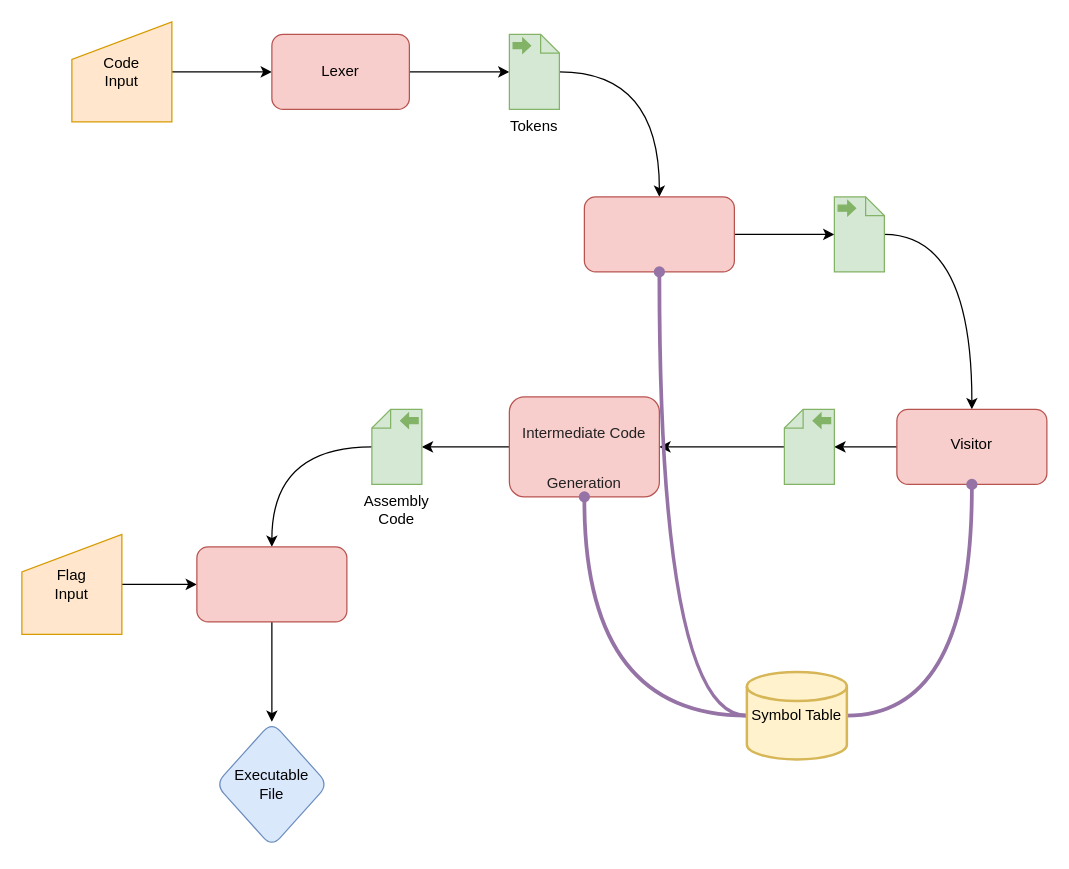
Image size: 1069x869. Some labels were removed from this diagram. The shapes that lost their labels are listed below. From the top down, each one's centre as x and y in pixels, then its label:
(x=658, y=234): Parser
(x=858, y=234): Parse Tree
(x=808, y=446): AST - Syntax Tree
(x=271, y=584): Assembler
